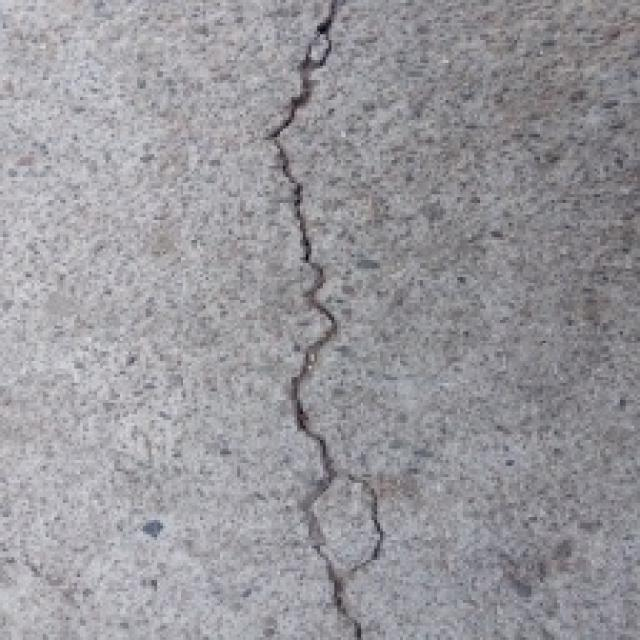SurfaceCrack: (262, 6, 420, 638)
